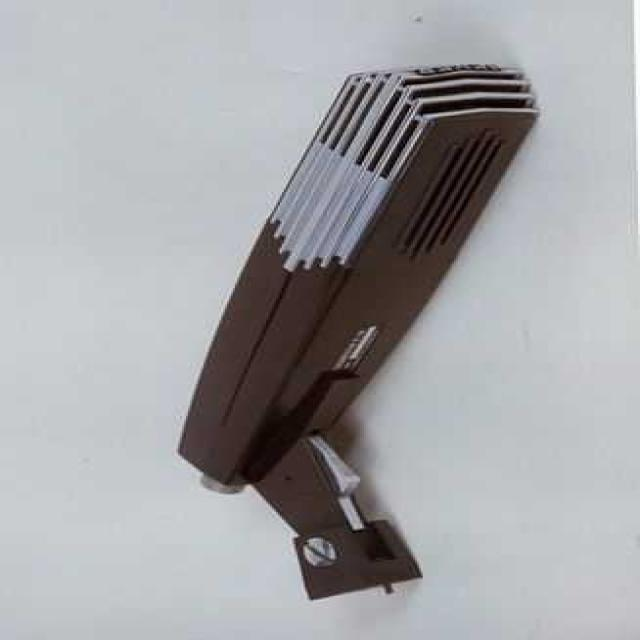microphone: (154, 70, 636, 614)
